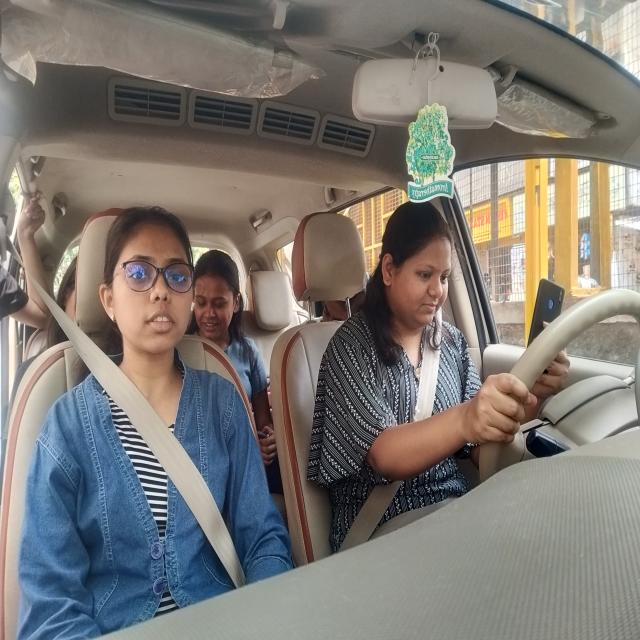mobile: (524, 272, 564, 354)
person: (98, 207, 198, 363), (374, 196, 454, 332), (195, 246, 246, 336), (50, 251, 74, 348), (326, 270, 370, 318)
